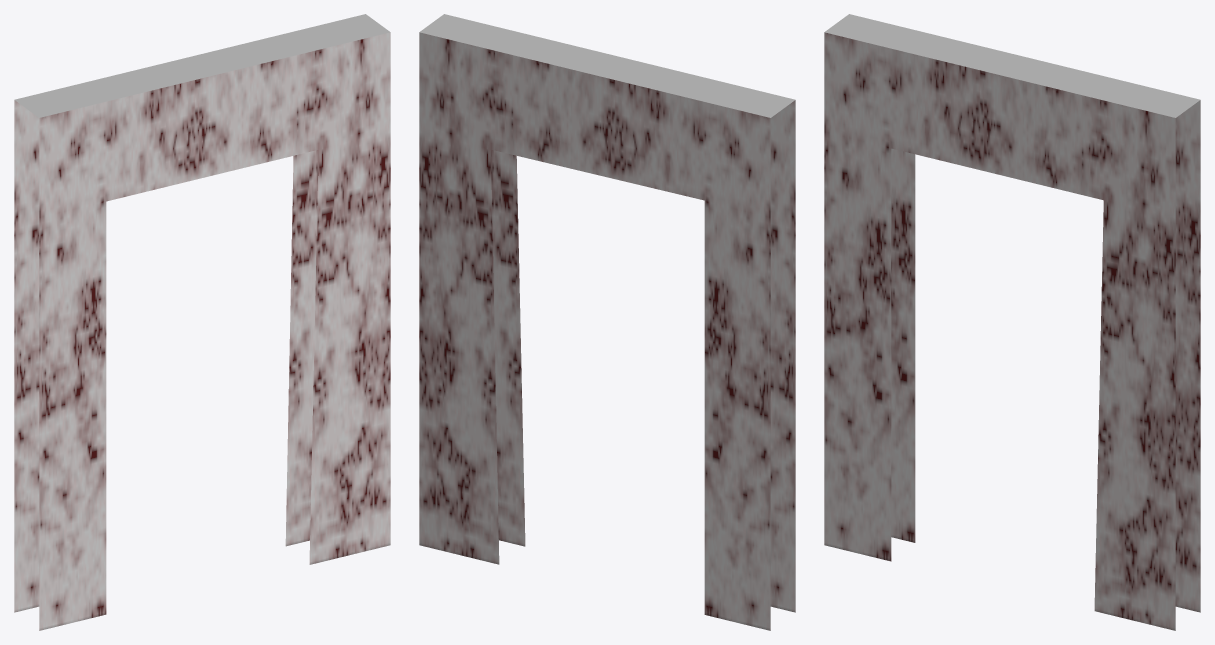
Rendered from W_I3_o [RotesMarmor]_233.glb.
The picture shows the model from 3 angles, left to right: view 1: azimuth 30°, elevation 25°; view 2: azimuth 150°, elevation 25°; view 3: azimuth 330°, elevation 25°; orthographic projection.
Parts seen in each view (by area): view 1: pPlaneShape2, pPlaneShape3, pPlaneShape1; view 2: pPlaneShape3, pPlaneShape2, pPlaneShape1; view 3: pPlaneShape2, pPlaneShape3, pPlaneShape1.
Part boxes in pixels (left/top/right/bottom): pPlaneShape2: left=39, top=32, right=390, bottom=630; pPlaneShape3: left=14, top=100, right=318, bottom=612; pPlaneShape1: left=14, top=14, right=390, bottom=117; pPlaneShape3: left=419, top=32, right=770, bottom=630; pPlaneShape2: left=491, top=100, right=795, bottom=612; pPlaneShape1: left=419, top=14, right=795, bottom=117; pPlaneShape2: left=824, top=32, right=1175, bottom=630; pPlaneShape3: left=891, top=100, right=1200, bottom=612; pPlaneShape1: left=824, top=14, right=1200, bottom=117.
Bounding box in the file's own units: 0.25 × 0.3486 × 0.0308.
Materials: 3 (2 with a texture image).
